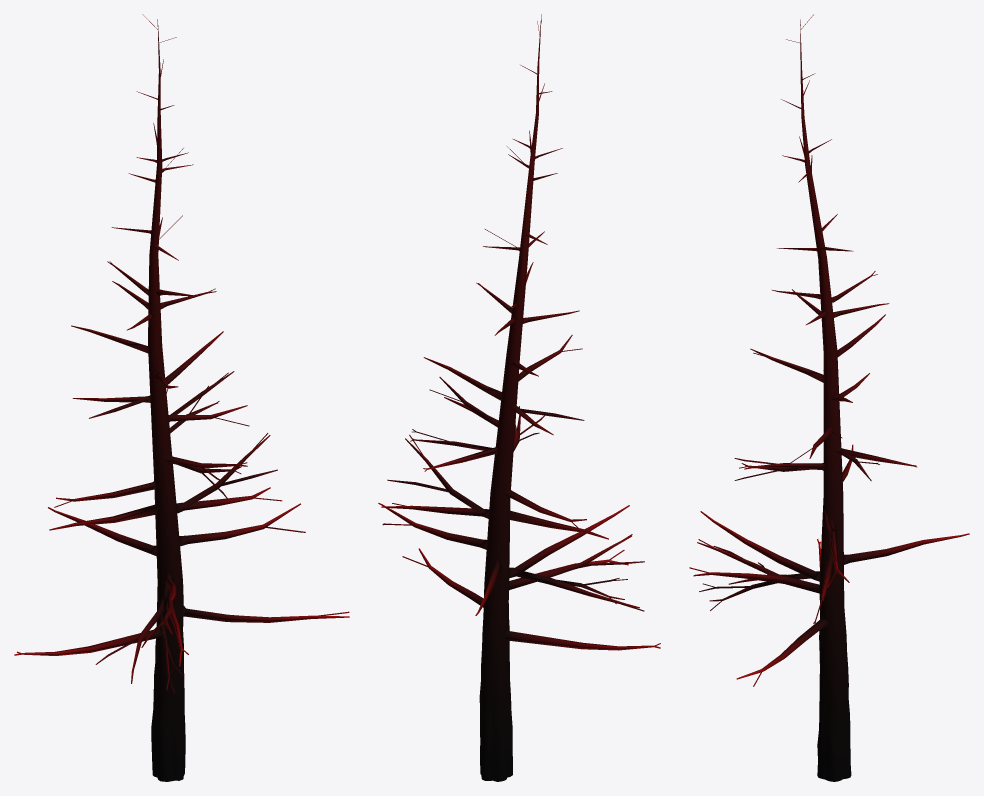
File: PineTree_NoLeaf.fbx
The picture shows the model from 3 angles, left to right: view 1: azimuth 30°, elevation 25°; view 2: azimuth 150°, elevation 25°; view 3: azimuth 270°, elevation 25°; orthographic projection. The views are drawn at different scales.
Visible parts, largest first — view 1: Small_Pine__1__LOD0__1_; view 2: Small_Pine__1__LOD0__1_; view 3: Small_Pine__1__LOD0__1_.
Boxes of the visible parts, left/top/right/bottom form: Small_Pine__1__LOD0__1_: left=14, top=14, right=349, bottom=781; Small_Pine__1__LOD0__1_: left=378, top=14, right=660, bottom=781; Small_Pine__1__LOD0__1_: left=689, top=14, right=969, bottom=781.
Bounding box in the file's own units: 172 × 426 × 146.
